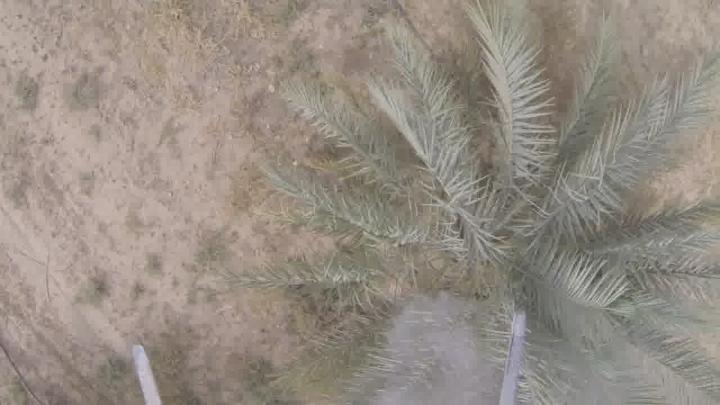Date-Palm-Crown: (364, 115, 638, 405)
